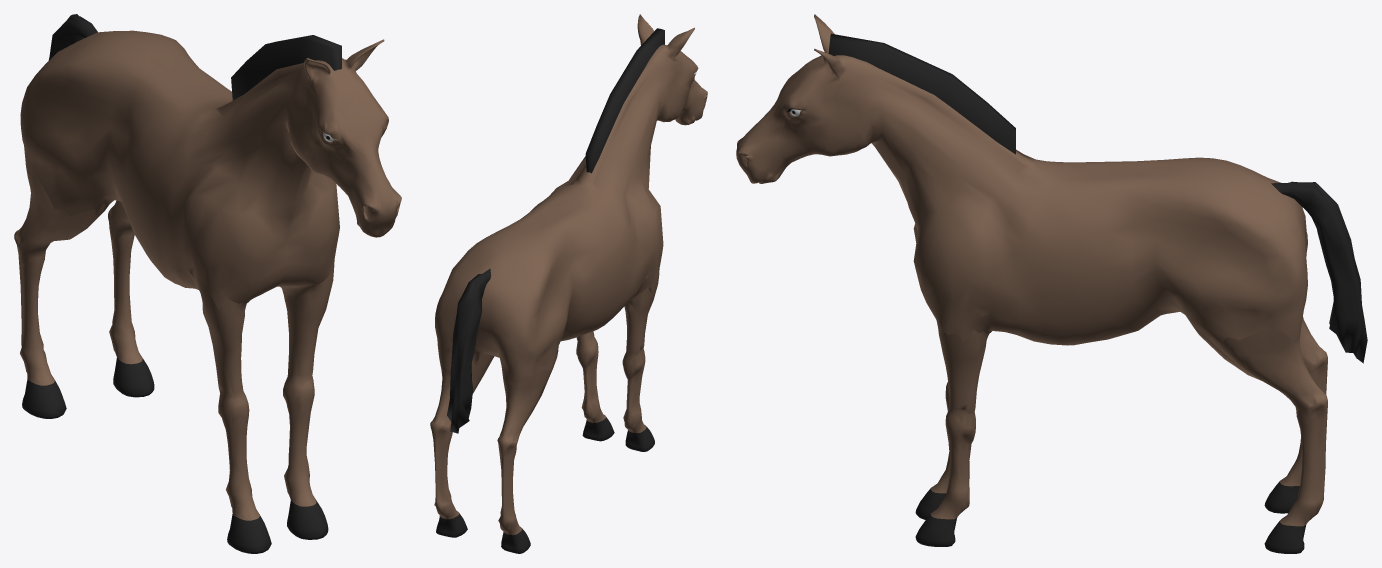
Rendered from horse_seperated.fbx.
3 views of the same model, side by side, from view 1: azimuth 30°, elevation 25°; view 2: azimuth 150°, elevation 25°; view 3: azimuth 270°, elevation 25° (orthographic). The views are drawn at different scales.
Parts seen in each view (by area): view 1: body, f_l, f_r, b_r, b_l, mane, tail; view 2: body, b_r, tail, f_r, b_l, mane, f_l; view 3: body, b_l, f_l, tail, mane, b_r, f_r.
Part boxes in pixels (box(x1,y1,x2,y2)): body: box(20, 30, 401, 308); f_l: box(280, 272, 332, 539); f_r: box(201, 291, 271, 553); b_r: box(14, 167, 103, 418); b_l: box(108, 200, 154, 397); mane: box(231, 35, 341, 100); tail: box(48, 14, 97, 60); body: box(435, 14, 707, 382); b_r: box(497, 369, 552, 553); tail: box(447, 269, 491, 433); f_r: box(622, 273, 658, 451); b_l: box(430, 353, 494, 537); mane: box(585, 28, 664, 173); f_l: box(576, 331, 614, 441); body: box(736, 14, 1307, 345); b_l: box(1195, 329, 1327, 553); f_l: box(915, 318, 991, 546); tail: box(1271, 181, 1367, 363); mane: box(828, 33, 1015, 154); b_r: box(1264, 317, 1327, 513); f_r: box(915, 382, 969, 519).
Size of the model in its own units: 52.93 by 191 by 220.
